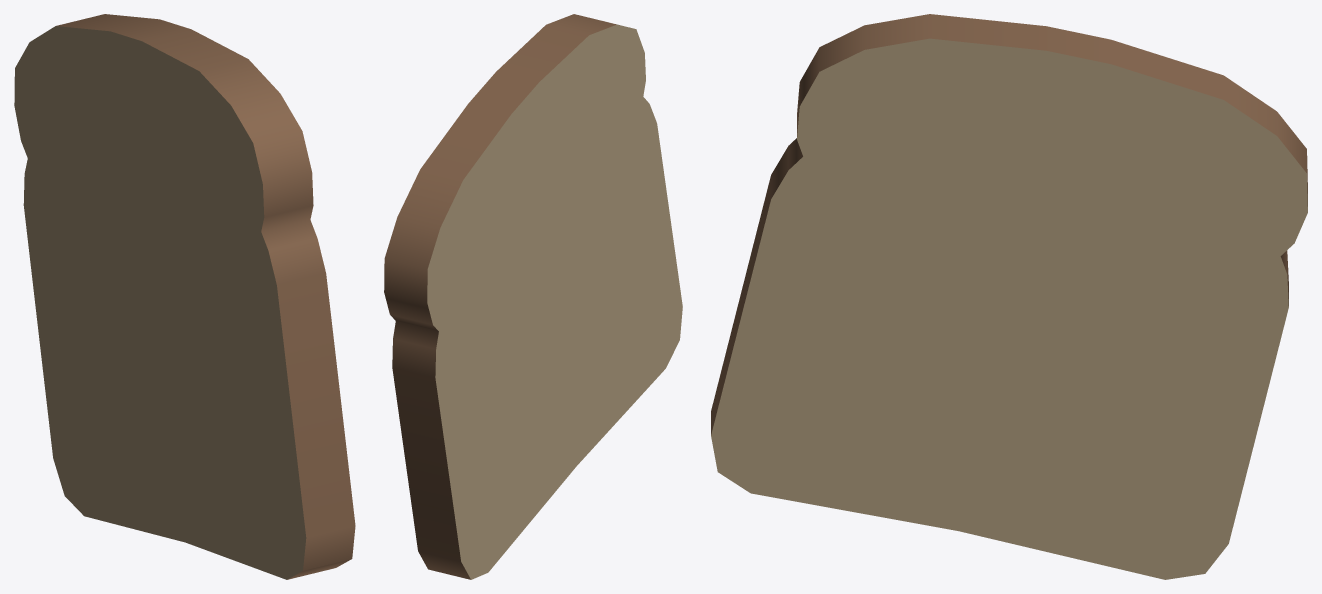
File: Toast2.fbx
The picture shows the model from 3 angles, left to right: view 1: azimuth 30°, elevation 25°; view 2: azimuth 150°, elevation 25°; view 3: azimuth 270°, elevation 25°; orthographic projection. The views are drawn at different scales.
Visible parts, largest first — view 1: pasted__pCube1; view 2: pasted__pCube1; view 3: pasted__pCube1.
Part boxes in pixels (x1,y1,x2,y2): pasted__pCube1: (14, 14, 355, 579); pasted__pCube1: (384, 14, 682, 579); pasted__pCube1: (711, 14, 1307, 579).
Size of the model in its own units: 0.0683 by 0.7012 by 0.7007.
